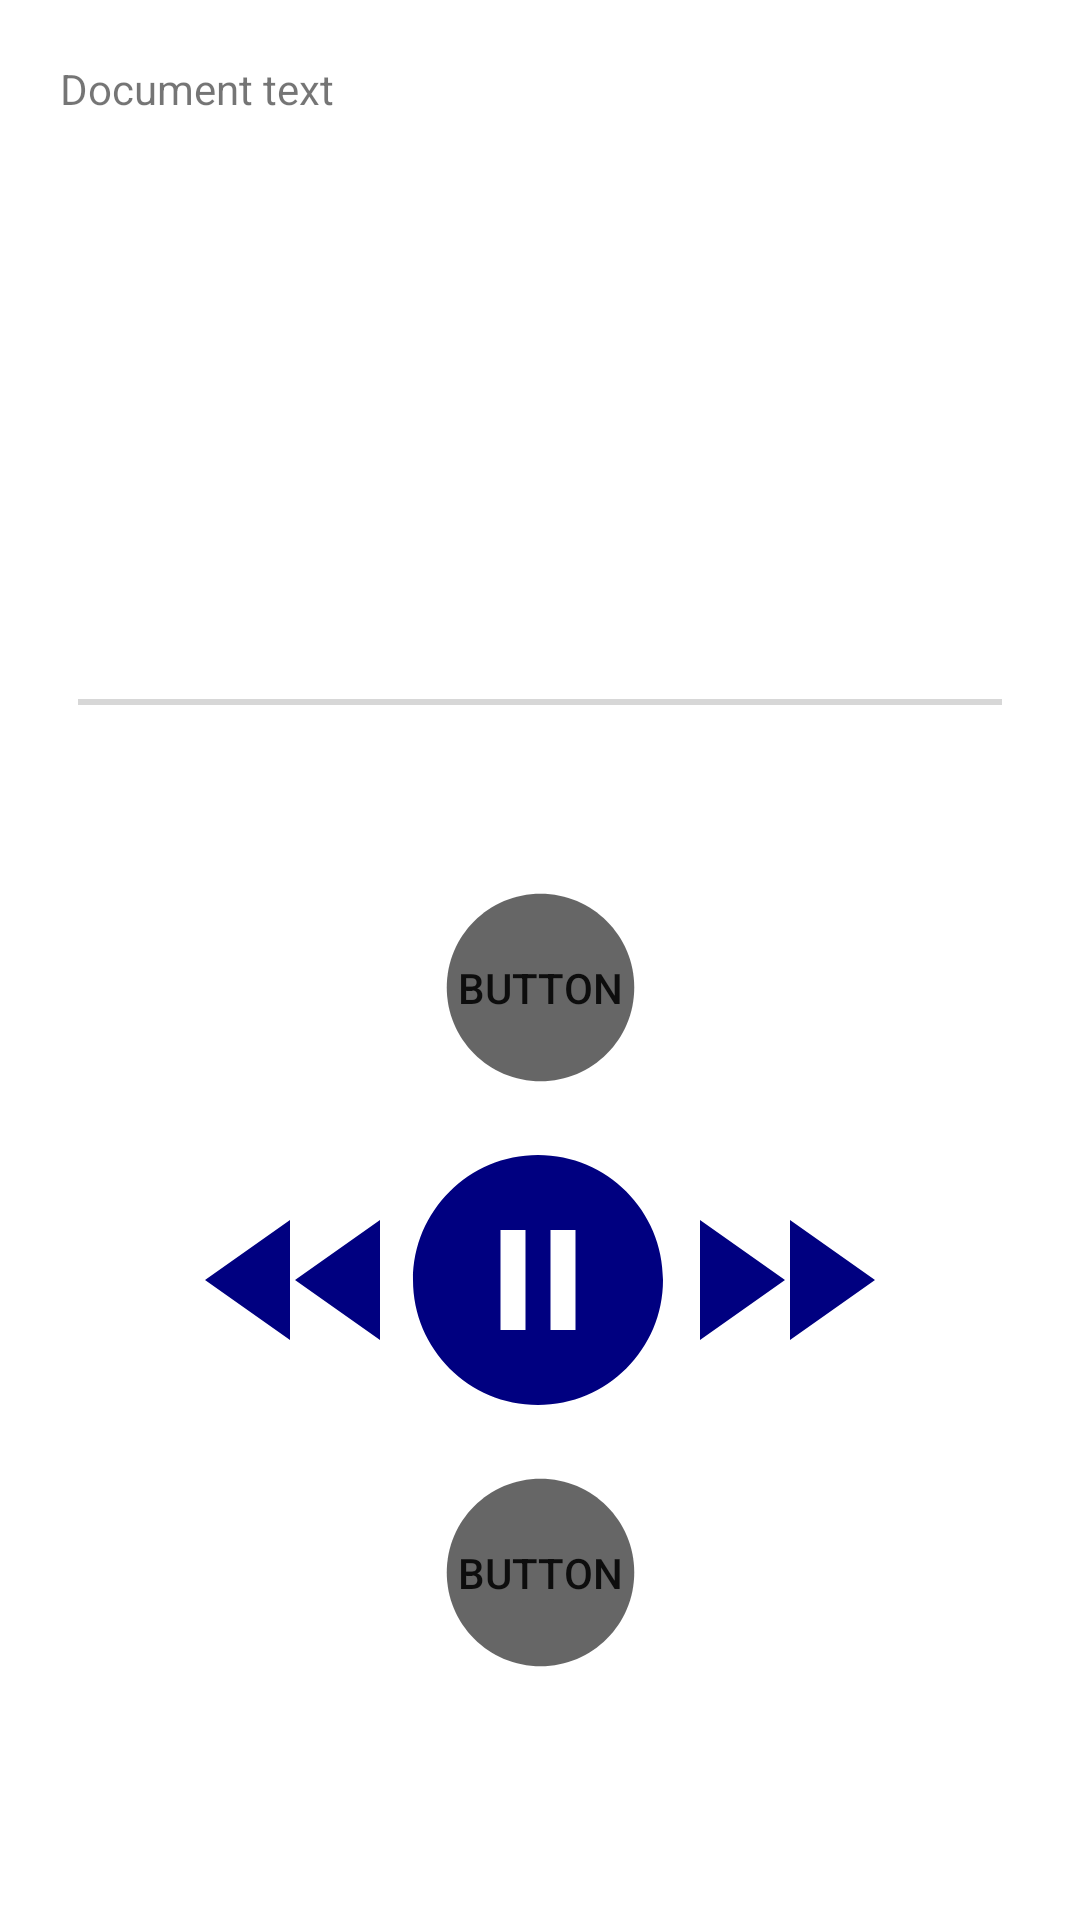

Where icons sit on this 1080*1920 app screen, as (x1, y1, x2, y2):
fast forward: (700, 1220, 875, 1340)
fast rewind: (205, 1220, 380, 1340)
